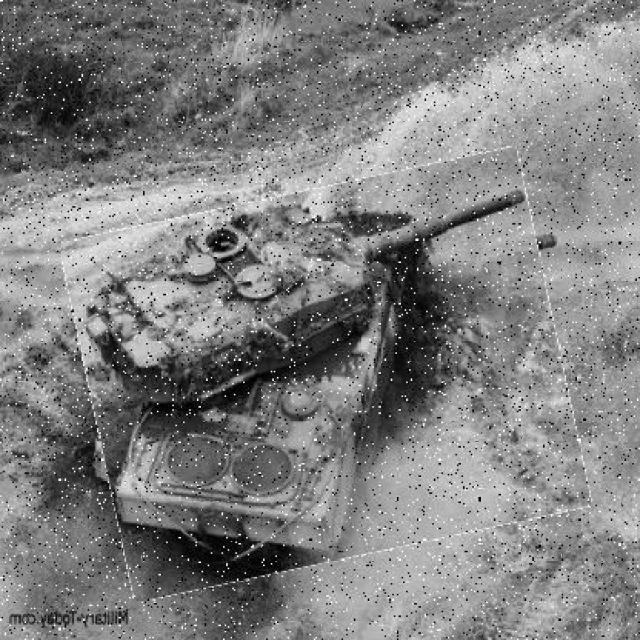Tank: (75, 170, 576, 581)
